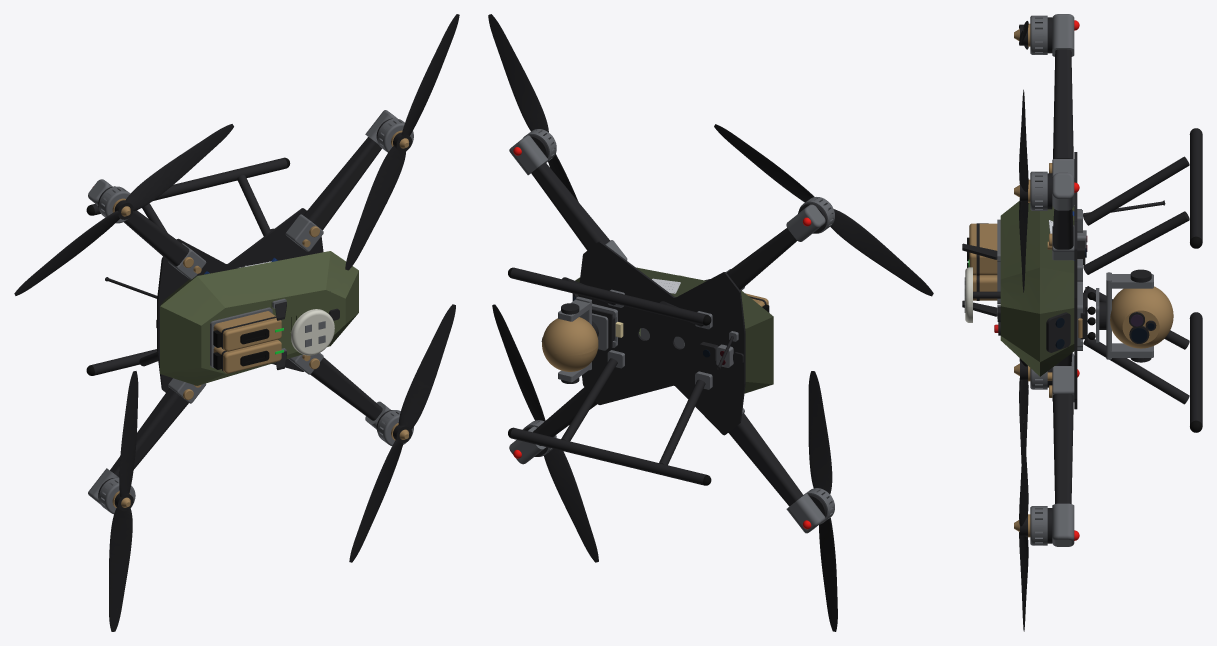
Rendered from isr4-quad.glb.
3 views of the same model, side by side, from view 1: azimuth 30°, elevation 25°; view 2: azimuth 150°, elevation 25°; view 3: azimuth 270°, elevation 25° (orthographic). The views are drawn at different scales.
Visible parts, largest first — view 1: AFR-120 Upper Canopy, PRP-310 22in Propeller FL, PRP-313 22in Propeller FR, PRP-311 22in Propeller RL, PRP-312 22in Propeller RR, AFR-101 Frame Plate, ARM-240 Carbon Arm FL, ARM-242 Carbon Arm RR, ARM-243 Carbon Arm FR, LDG-971 Skid Tube L, BAT-710A Smart Battery 11Ah A, COM-811 CRPA Anti-Jam GNSS Antenna (+5 smaller); view 2: AFR-101 Frame Plate, PRP-312 22in Propeller RR, PRP-311 22in Propeller RL, PRP-313 22in Propeller FR, AFR-110 Lower Hull, PRP-310 22in Propeller FL, PLD-940 Sensor Ball, LDG-972 Skid Tube R, LDG-971 Skid Tube L, ARM-240 Carbon Arm FL, ARM-242 Carbon Arm RR, ARM-241 Carbon Arm RL (+7 smaller); view 3: AFR-120 Upper Canopy, AFR-110 Lower Hull, PLD-940 Sensor Ball, ARM-243 Carbon Arm FR, ARM-241 Carbon Arm RL, PLD-930 Gimbal Yoke, LDG-971 Skid Tube L, LDG-972 Skid Tube R, PRP-313 22in Propeller FR, PRP-310 22in Propeller FL, LDG-962 Strut 2, LDG-961 Strut 1 (+17 smaller).
Part boxes in pixels (x1,y1,x2,y2): AFR-120 Upper Canopy: [160, 251, 358, 385]; PRP-310 22in Propeller FL: [345, 14, 459, 270]; PRP-313 22in Propeller FR: [349, 304, 455, 562]; PRP-311 22in Propeller RL: [14, 124, 233, 295]; PRP-312 22in Propeller RR: [109, 371, 138, 631]; AFR-101 Frame Plate: [157, 208, 323, 392]; ARM-240 Carbon Arm FL: [303, 137, 381, 230]; ARM-242 Carbon Arm RR: [110, 388, 188, 477]; ARM-243 Carbon Arm FR: [310, 357, 382, 420]; LDG-971 Skid Tube L: [91, 158, 287, 215]; BAT-710A Smart Battery 11Ah A: [213, 311, 281, 351]; COM-811 CRPA Anti-Jam GNSS Antenna: [291, 309, 334, 355]; AFR-101 Frame Plate: [578, 241, 745, 435]; PRP-312 22in Propeller RR: [808, 371, 837, 631]; PRP-311 22in Propeller RL: [714, 124, 933, 296]; PRP-313 22in Propeller FR: [492, 304, 598, 562]; AFR-110 Lower Hull: [575, 267, 773, 393]; PRP-310 22in Propeller FL: [488, 14, 578, 201]; PLD-940 Sensor Ball: [542, 317, 598, 371]; LDG-972 Skid Tube R: [510, 428, 706, 485]; LDG-971 Skid Tube L: [510, 267, 706, 325]; ARM-240 Carbon Arm FL: [531, 162, 610, 250]; ARM-242 Carbon Arm RR: [728, 413, 803, 506]; ARM-241 Carbon Arm RL: [726, 228, 797, 289]; AFR-120 Upper Canopy: [1000, 201, 1039, 376]; AFR-110 Lower Hull: [1040, 206, 1074, 376]; PLD-940 Sensor Ball: [1110, 286, 1173, 348]; ARM-243 Carbon Arm FR: [1053, 394, 1073, 503]; ARM-241 Carbon Arm RL: [1053, 49, 1073, 158]; PLD-930 Gimbal Yoke: [1106, 272, 1153, 359]; LDG-971 Skid Tube L: [1190, 128, 1202, 241]; LDG-972 Skid Tube R: [1190, 312, 1202, 425]; PRP-313 22in Propeller FR: [1019, 420, 1028, 631]; PRP-310 22in Propeller FL: [1019, 89, 1028, 292]; LDG-962 Strut 2: [1083, 156, 1189, 225]; LDG-961 Strut 1: [1083, 211, 1189, 274].
Size of what is drawn, in the model's own units: 1018 by 1167 by 414.
